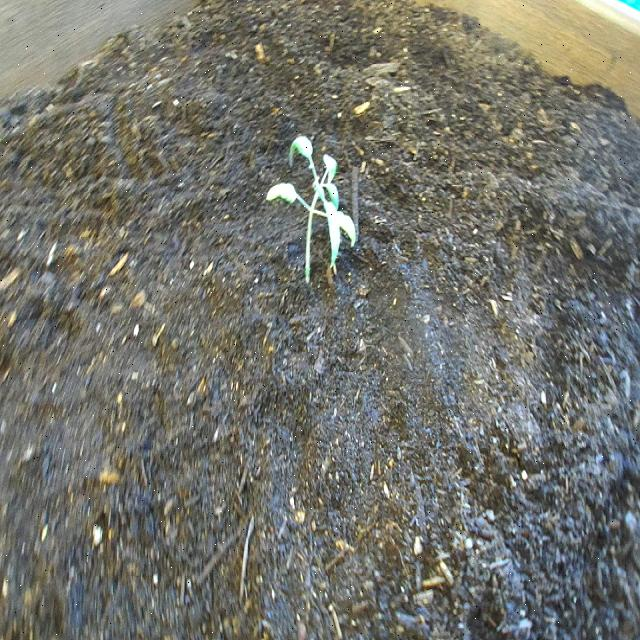Healthy: (263, 132, 361, 288)
